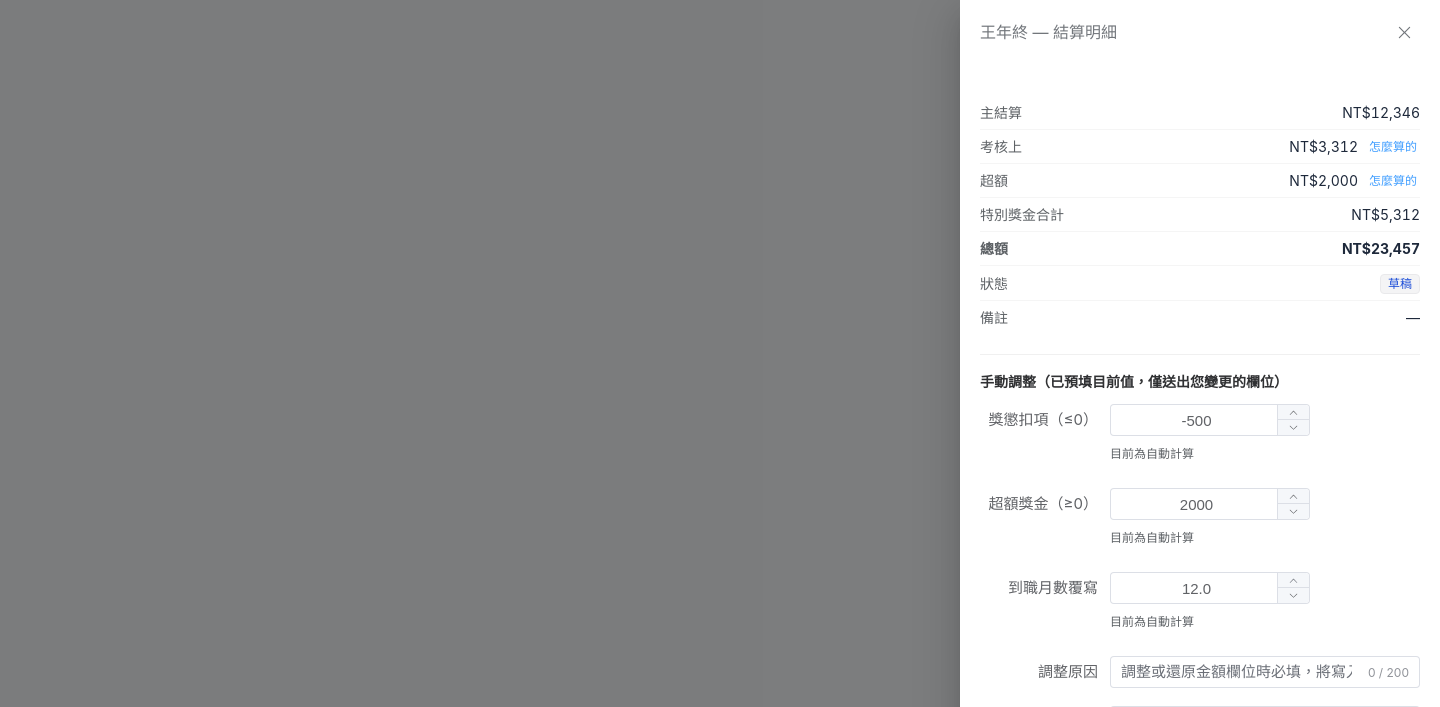
GridRowDetailDrawer（DOM 渲染：怎麼算的 provenance 下鑽） › getProvenance 失敗：DOM 顯示錯誤訊息降級，不炸不留 loading
Step 1. Click the button with test id "provenance-toggle-EXCESS_ENROLLMENT" → (1393,180), box [1366,172,1420,190]
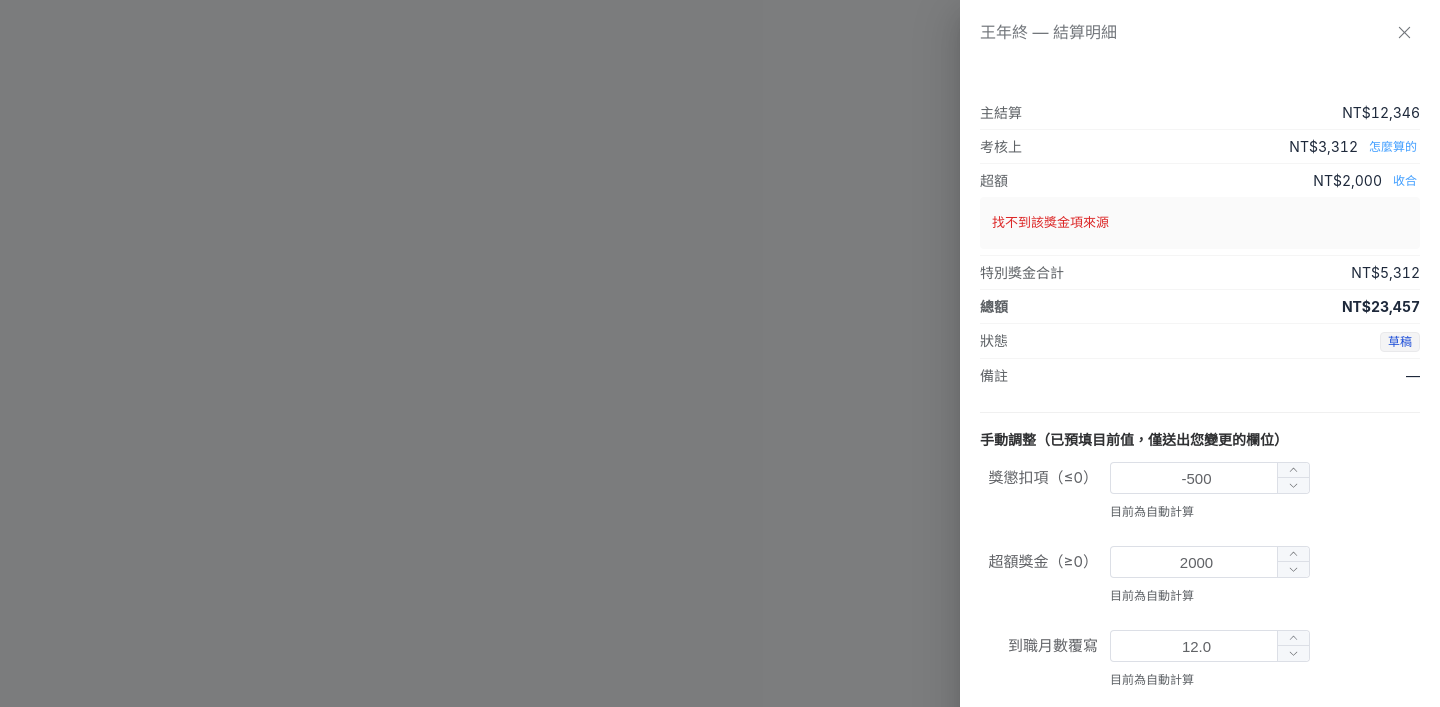
Now the text with test id "provenance-error-EXCESS_ENROLLMENT" reads "找不到該獎金項來源", box [992,214,1109,230]
